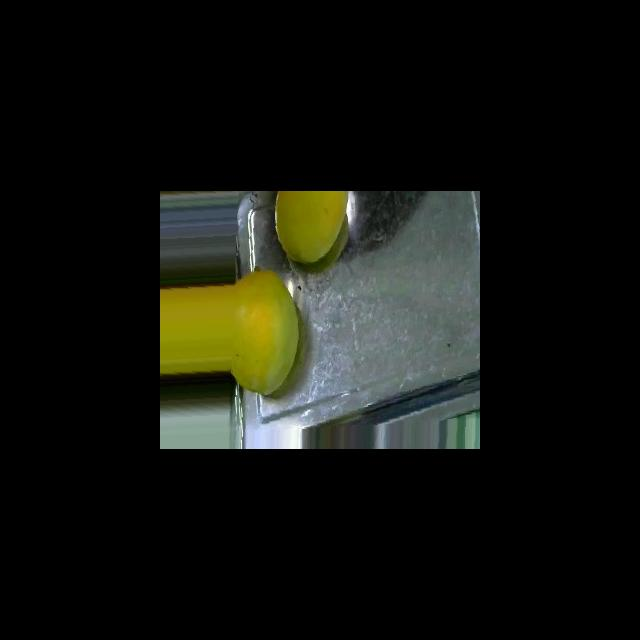mango: (160, 269, 300, 395), (230, 269, 299, 395), (274, 191, 348, 264)
